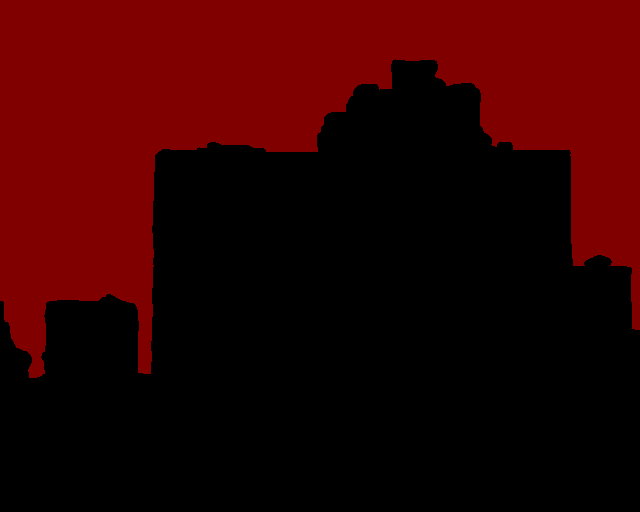Sky: (1, 1, 639, 377)
